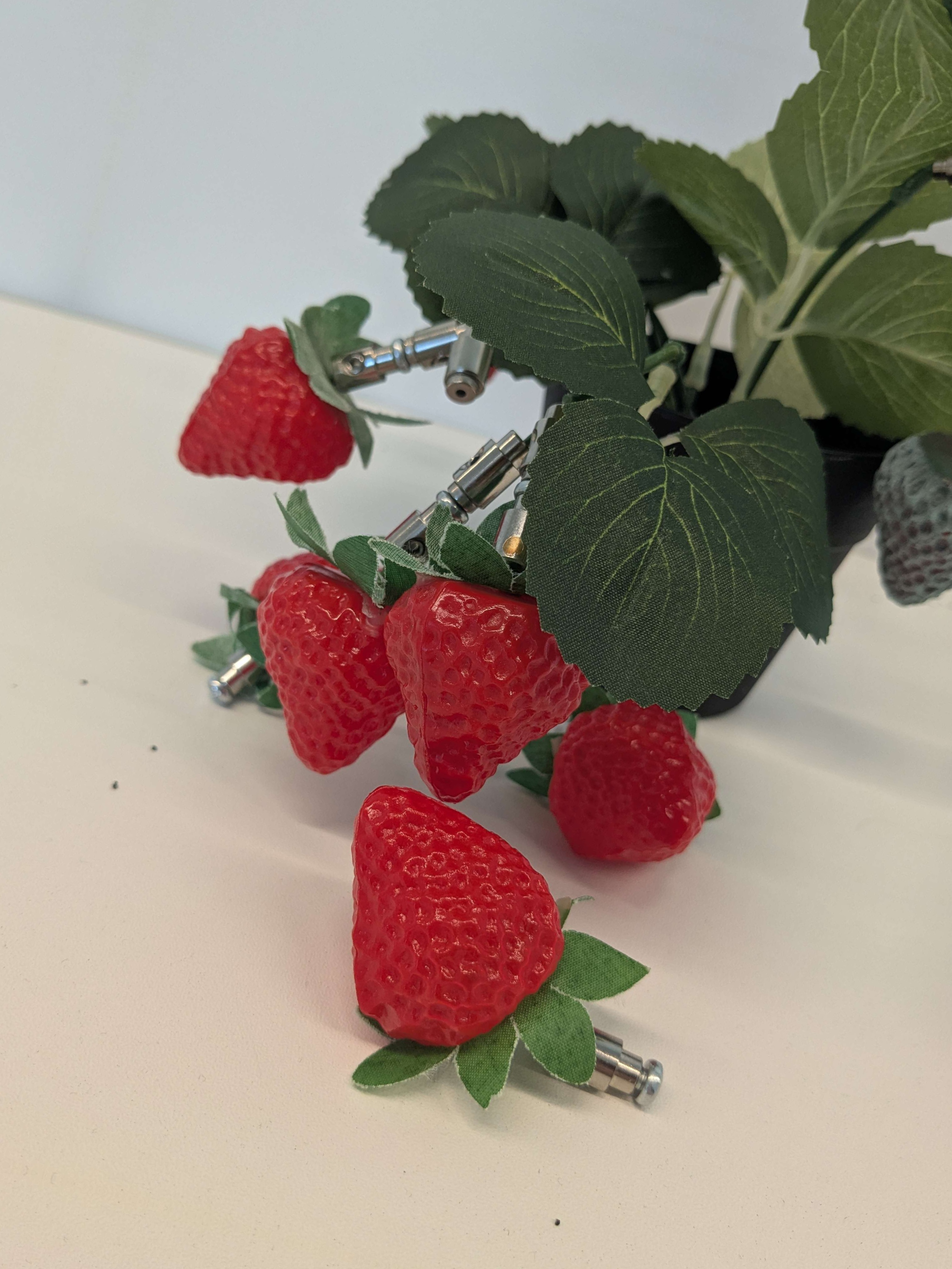Strawberry: (292, 760, 615, 1093), (338, 553, 609, 833), (134, 268, 412, 525), (215, 526, 455, 806), (525, 686, 755, 897)
